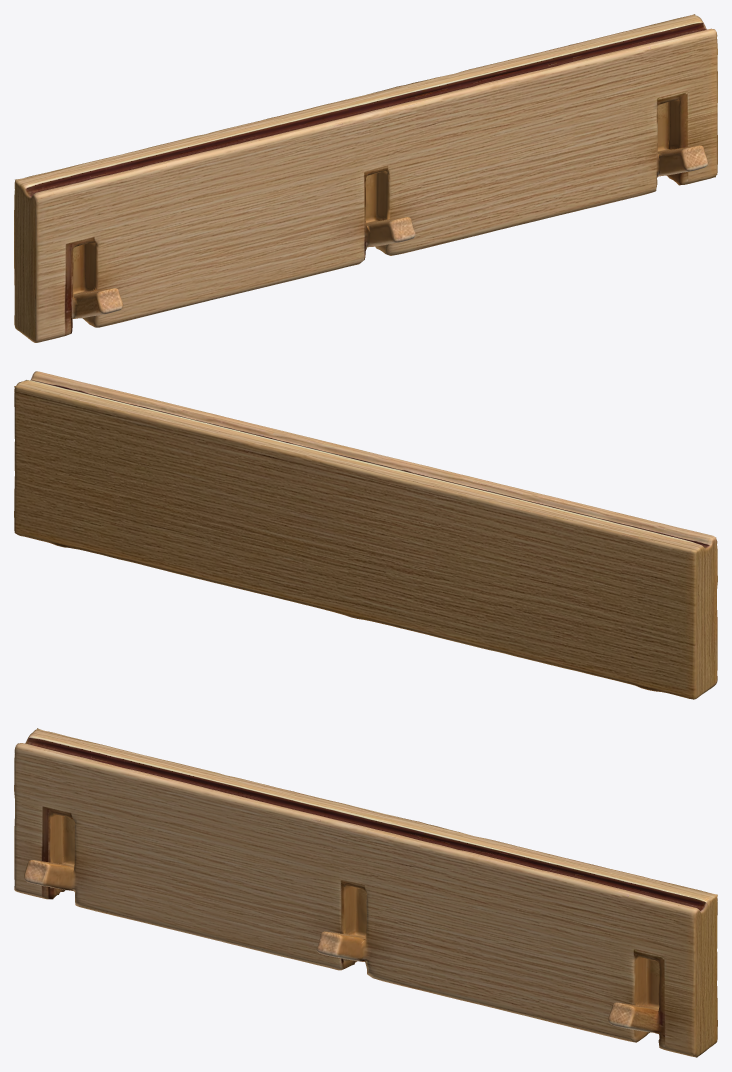
File: oak-hooks.glb
3 renders of one model, top to bottom at view 1: azimuth 30°, elevation 25°; view 2: azimuth 150°, elevation 25°; view 3: azimuth 330°, elevation 25°, orthographic.
Visible parts, largest first — view 1: tripo_node_7af740ac-42da-44aa-8349-9b83ad686e78; view 2: tripo_node_7af740ac-42da-44aa-8349-9b83ad686e78; view 3: tripo_node_7af740ac-42da-44aa-8349-9b83ad686e78.
Part boxes in pixels (left/top/right/bottom): tripo_node_7af740ac-42da-44aa-8349-9b83ad686e78: left=14, top=14, right=717, bottom=342; tripo_node_7af740ac-42da-44aa-8349-9b83ad686e78: left=14, top=371, right=717, bottom=699; tripo_node_7af740ac-42da-44aa-8349-9b83ad686e78: left=14, top=728, right=717, bottom=1057.
Size of the model in its own units: 0.44 by 0.0927 by 0.0577.
Materials: 1 (1 with a texture image).
